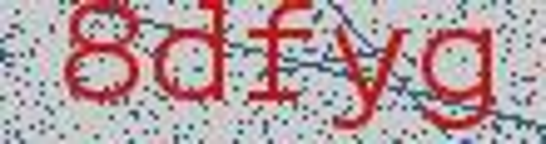8: (60, 1, 143, 112)
d: (152, 1, 231, 112)
f: (242, 1, 319, 114)
g: (414, 24, 500, 140)
y: (325, 16, 413, 140)
